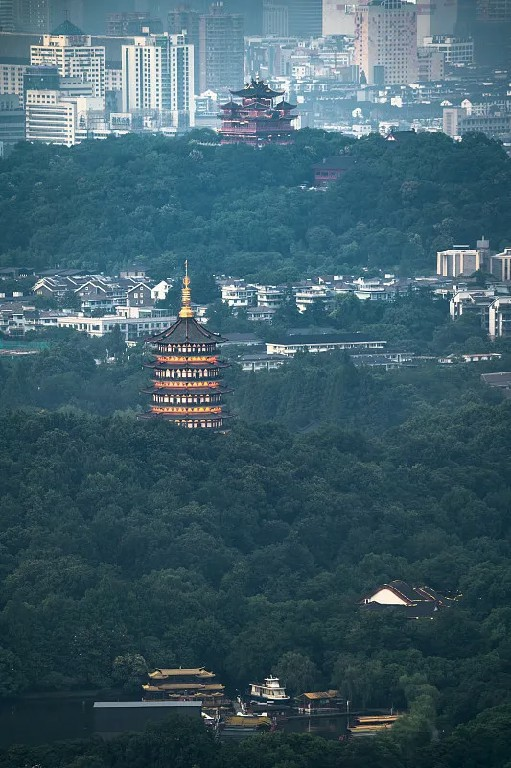Leifeng: (145, 258, 233, 436)
